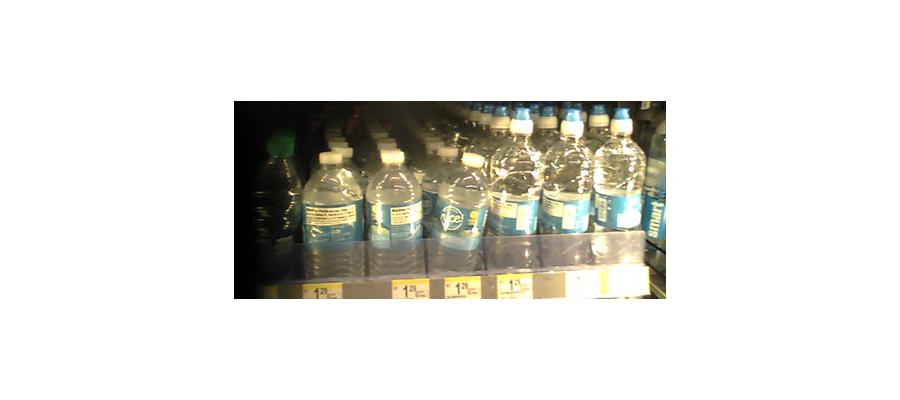bottle: (539, 106, 595, 268), (487, 104, 540, 272), (595, 102, 644, 264), (246, 130, 299, 274), (305, 147, 363, 278), (366, 147, 424, 276), (426, 149, 486, 272)
